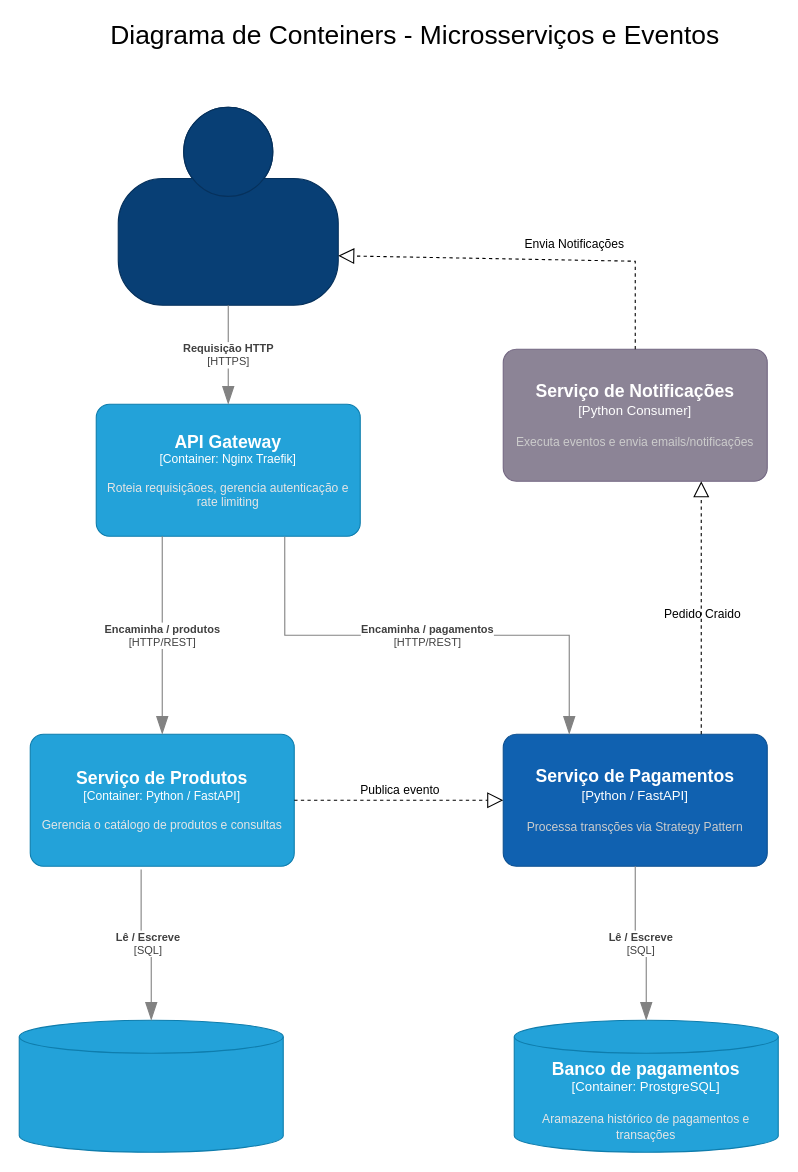
The diagram is 798 pixels wide and 1172 high, and some of its shapes have lost their labels. The box of each missing label's shape, as (x1, y1, x2, y2) in pixels:
Banco de Produtos [Container: PostgreSQL] Armazena catálogo e categorias: (18, 1019, 283, 1152)
Cliente [Usuário ] Acessa a plataforma via Web/App: (117, 106, 338, 305)
